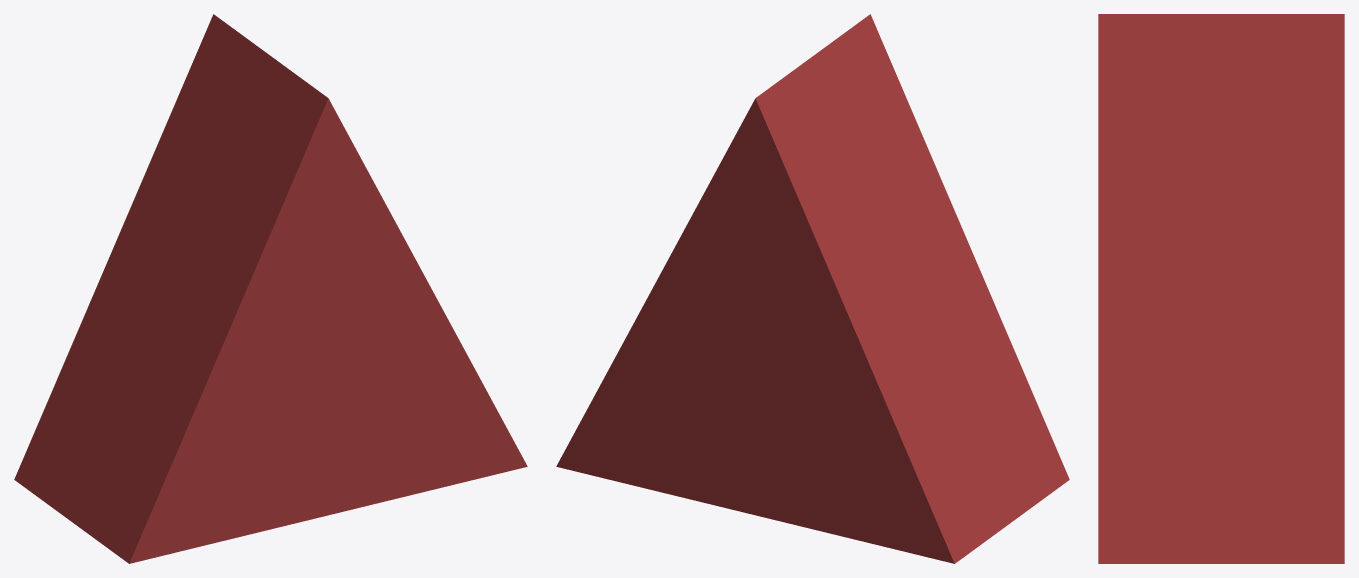
The model's file is triangule3.fbx.
The picture shows the model from 3 angles, left to right: view 1: azimuth 30°, elevation 25°; view 2: azimuth 150°, elevation 25°; view 3: azimuth 270°, elevation 25°; orthographic projection. The views are drawn at different scales.
Parts seen in each view (by area): view 1: pCube9; view 2: pCube9; view 3: pCube9.
Boxes of the visible parts, left/top/right/bottom form: pCube9: left=14, top=14, right=527, bottom=563; pCube9: left=556, top=14, right=1069, bottom=563; pCube9: left=1098, top=14, right=1344, bottom=563.
Size of the model in its own units: 1.5 by 1.5 by 0.75.
